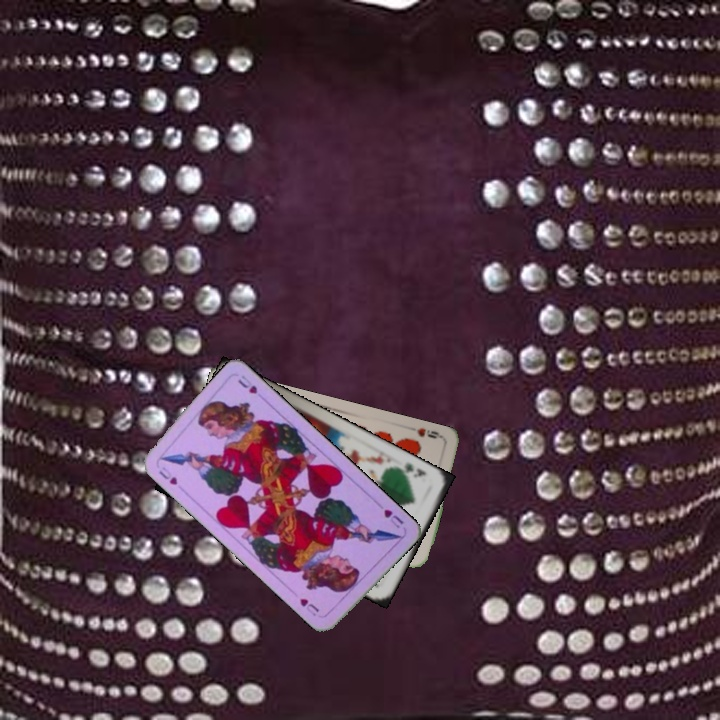GK: (395, 459, 429, 481)
H9: (413, 424, 445, 441)
HU: (380, 505, 406, 531), (155, 462, 180, 488)
